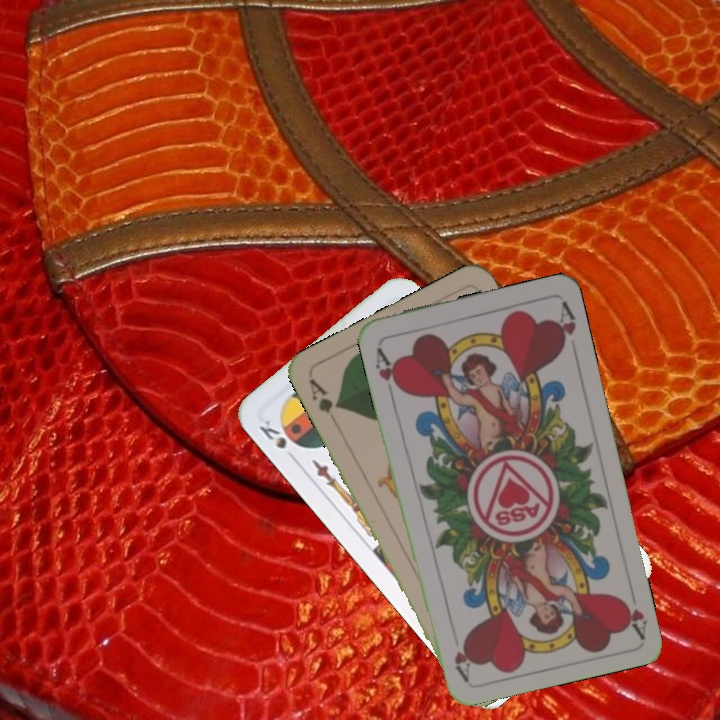GA: (305, 374, 343, 428)
HA: (616, 580, 650, 639), (371, 343, 405, 399)
SK: (255, 415, 289, 452)
